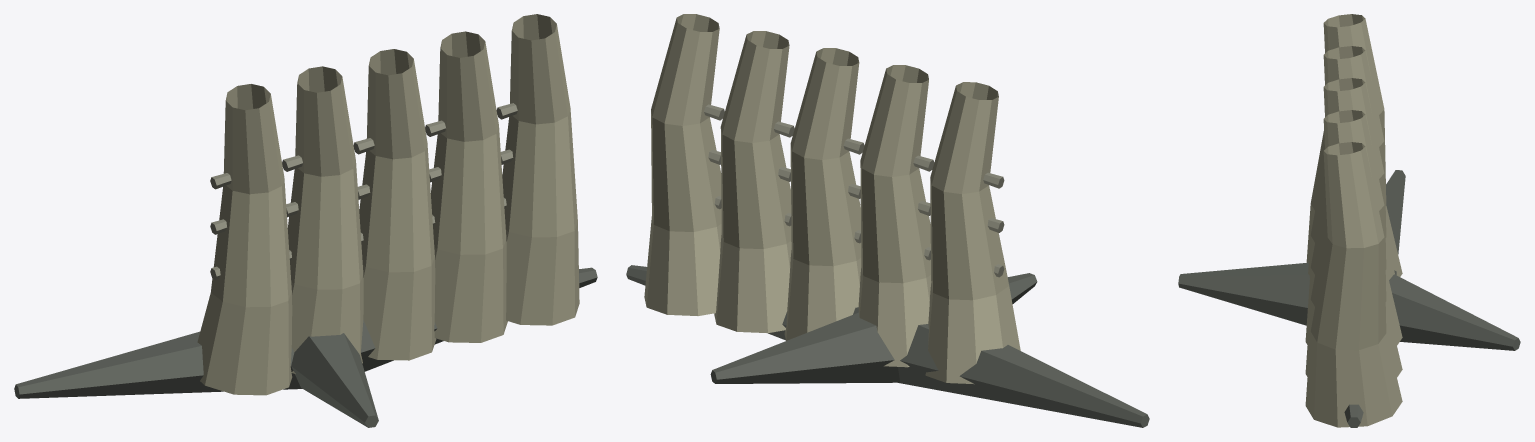
The model's file is strange_lightning_scar.glb.
3 views of the same model, side by side, from view 1: azimuth 30°, elevation 25°; view 2: azimuth 150°, elevation 25°; view 3: azimuth 270°, elevation 25° (orthographic). The views are drawn at different scales.
Visible parts, largest first — view 1: strange_lightning_scar; view 2: strange_lightning_scar; view 3: strange_lightning_scar.
Part boxes in pixels (bbox=[...]): strange_lightning_scar: bbox=[14, 14, 597, 427]; strange_lightning_scar: bbox=[626, 14, 1149, 427]; strange_lightning_scar: bbox=[1178, 14, 1520, 427].
Size of the model in its own units: 7.37 by 3.91 by 4.3.
